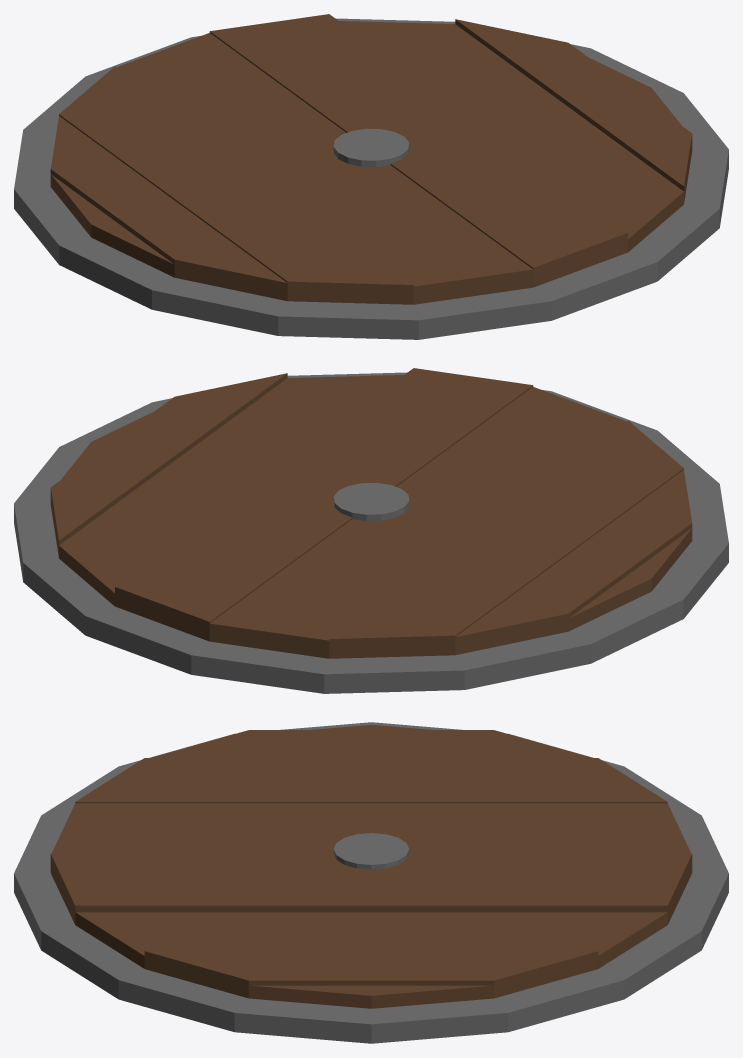
File: SpiritBarrack_UIbutton.fbx
3 views of the same model, one above another, from view 1: azimuth 30°, elevation 25°; view 2: azimuth 150°, elevation 25°; view 3: azimuth 270°, elevation 25° (orthographic).
Visible parts, largest first — view 1: Circle.001, Circle, Circle.002; view 2: Circle.001, Circle, Circle.002; view 3: Circle.001, Circle, Circle.002.
Boxes of the visible parts, x1,y1,x2,y2 form: Circle.001: (50, 14, 692, 304); Circle: (14, 18, 728, 339); Circle.002: (333, 128, 409, 166); Circle.001: (50, 368, 692, 658); Circle: (14, 372, 728, 693); Circle.002: (333, 482, 409, 520); Circle.001: (50, 724, 692, 1008); Circle: (14, 722, 728, 1043); Circle.002: (333, 833, 409, 869).
Size of the model in its own units: 2000 by 135 by 2000.
